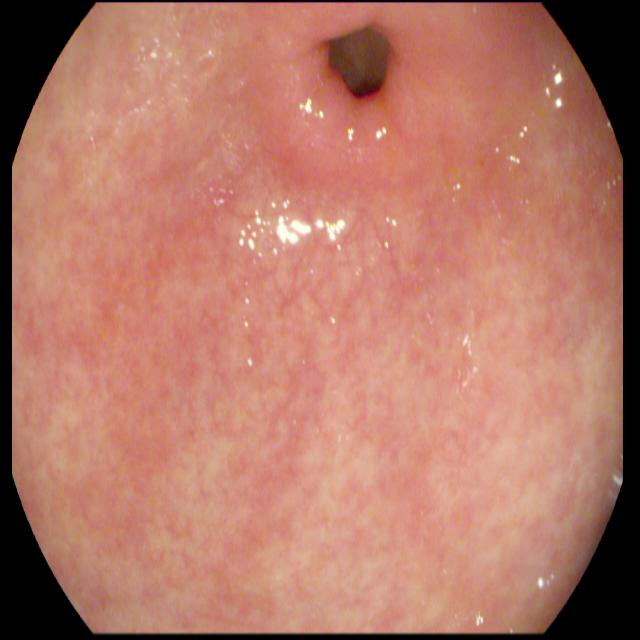normal-pylorus: (236, 0, 523, 204)
